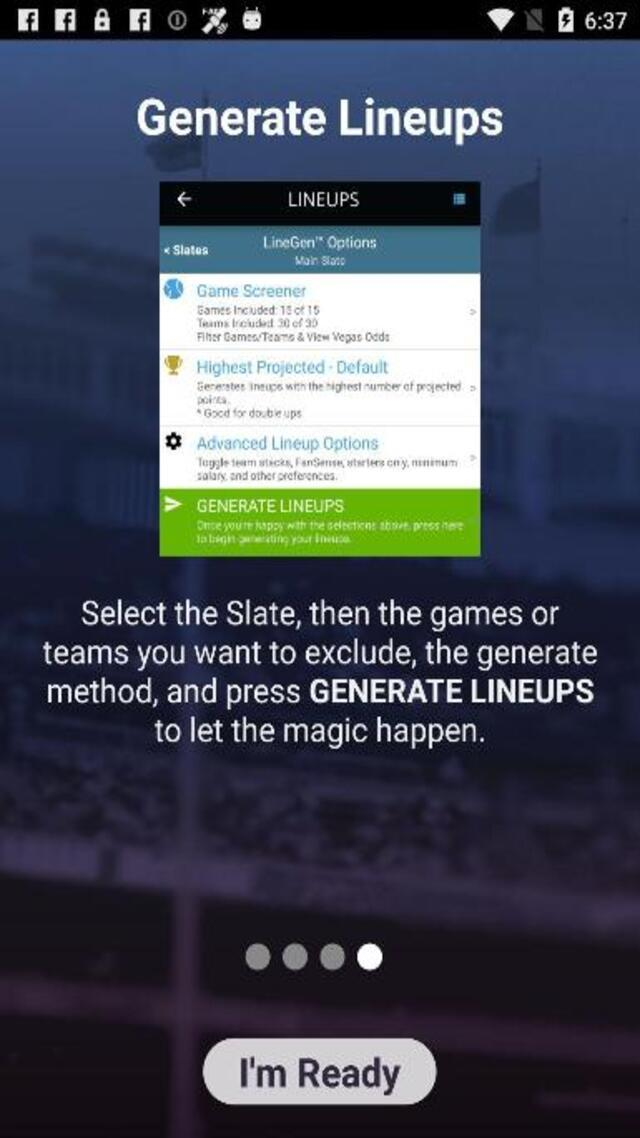Image: (160, 181, 478, 554)
Text: (39, 637, 606, 672), (71, 598, 568, 634), (138, 97, 504, 145), (43, 678, 598, 709), (149, 717, 488, 752), (230, 1050, 404, 1098)
TextButton: (202, 1036, 436, 1104)
